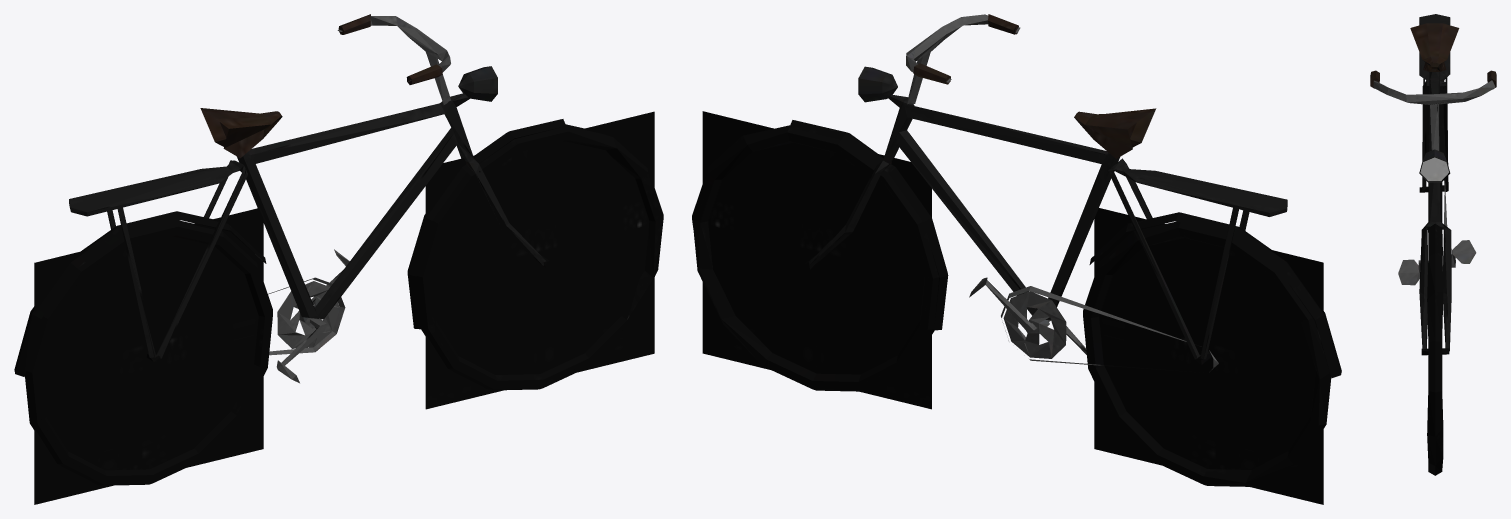
The model's file is bicycle.glb.
3 renders of one model, left to right at view 1: azimuth 30°, elevation 25°; view 2: azimuth 150°, elevation 25°; view 3: azimuth 270°, elevation 25°, orthographic. The views are drawn at different scales.
Visible parts, largest first — view 1: Bicycle; view 2: Bicycle; view 3: Bicycle.
Boxes of the visible parts, x1=… form: Bicycle: x1=14, y1=14, x2=663, y2=504; Bicycle: x1=692, y1=14, x2=1341, y2=504; Bicycle: x1=1370, y1=14, x2=1496, y2=475.
Size of the model in its own units: 1.75 by 0.9902 by 0.3447.
Materials: 1 (1 with a texture image).
